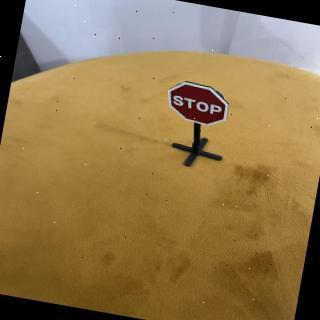sign_stop: (164, 79, 235, 133)
